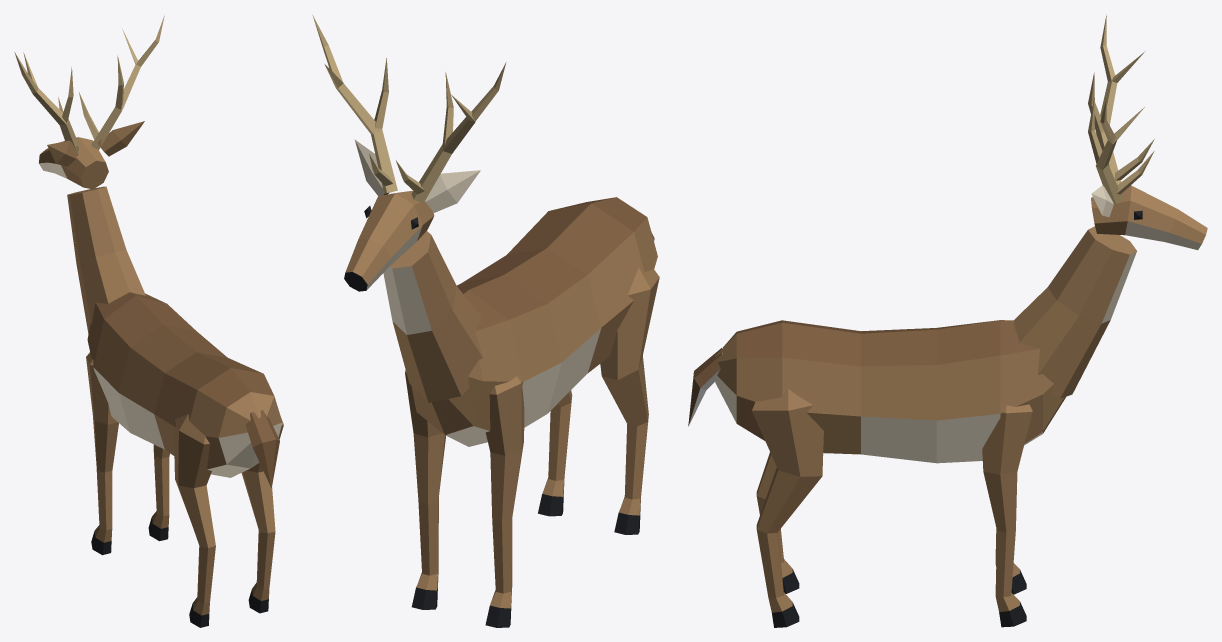
Rendered from deer.glb.
The picture shows the model from 3 angles, left to right: view 1: azimuth 30°, elevation 25°; view 2: azimuth 150°, elevation 25°; view 3: azimuth 270°, elevation 25°; orthographic projection. The views are drawn at different scales.
Visible parts, largest first — view 1: Body, Head, Leg_RL, Leg_FL, Leg_RR, Leg_FR, Tail; view 2: Body, Head, Leg_RL, Leg_FL, Leg_FR, Leg_RR; view 3: Body, Head, Leg_RR, Leg_FR, Leg_RL, Tail.
Boxes of the visible parts, x1,y1,x2,y2 form: Body: (87, 292, 282, 477); Head: (14, 15, 164, 333); Leg_RL: (174, 413, 215, 627); Leg_FL: (86, 352, 118, 555); Leg_RR: (241, 418, 283, 613); Leg_FR: (148, 444, 169, 541); Tail: (245, 410, 279, 487); Body: (411, 197, 657, 446); Head: (312, 15, 506, 402); Leg_RL: (600, 267, 659, 534); Leg_FL: (485, 376, 524, 627); Leg_FR: (405, 370, 445, 609); Leg_RR: (538, 390, 572, 516); Body: (715, 320, 1065, 463); Head: (1013, 14, 1207, 398); Leg_RR: (751, 389, 823, 627); Leg_FR: (982, 404, 1032, 627); Leg_RL: (756, 452, 799, 593); Tail: (688, 347, 722, 426).
Bounding box in the file's own units: 0.66 × 2.01 × 1.71.
